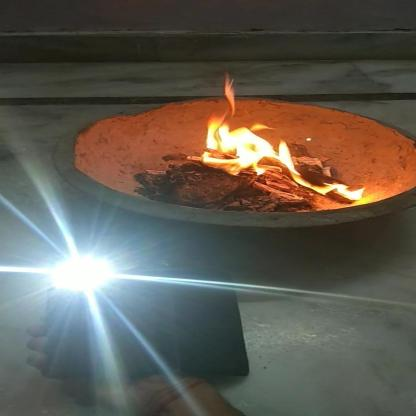fire: (188, 75, 368, 201)
